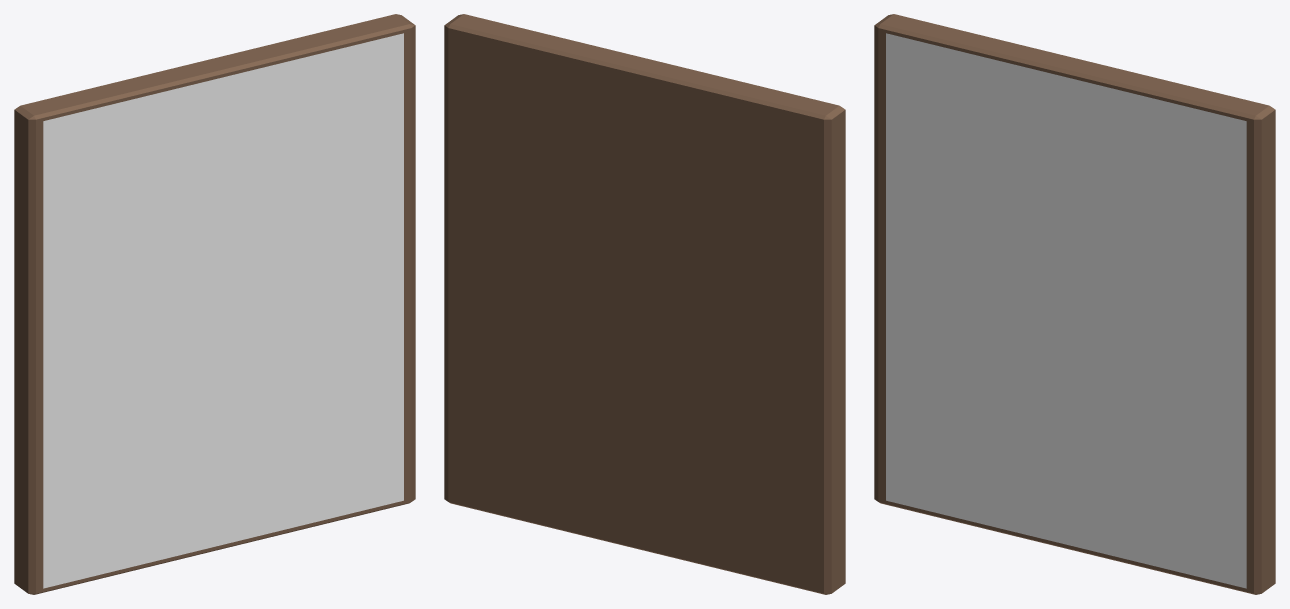
The model's file is Mirror.glb.
The picture shows the model from 3 angles, left to right: view 1: azimuth 30°, elevation 25°; view 2: azimuth 150°, elevation 25°; view 3: azimuth 330°, elevation 25°; orthographic projection.
Visible parts, largest first — view 1: Mirror; view 2: Mirror; view 3: Mirror.
Boxes of the visible parts, x1,y1,x2,y2 form: Mirror: (14,14,415,594); Mirror: (444,14,845,594); Mirror: (874,14,1275,594).
Size of the model in its own units: 1.01 by 1.2 by 0.0795.
